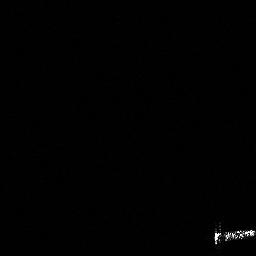ship: (214, 228, 255, 241)
